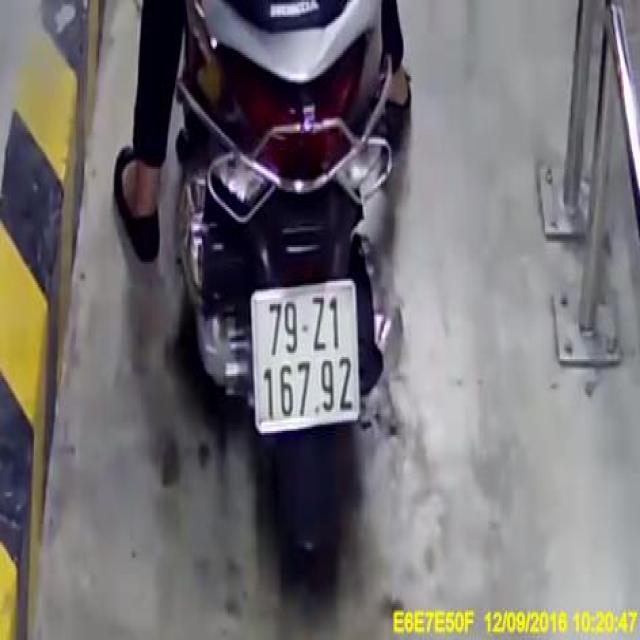1: (260, 361, 276, 420), (328, 292, 339, 354)
2: (338, 355, 354, 409)
6: (276, 362, 296, 419)
7: (267, 300, 282, 354), (296, 355, 309, 417)
9: (318, 356, 338, 411), (281, 299, 300, 356)
Z: (308, 289, 328, 354)
